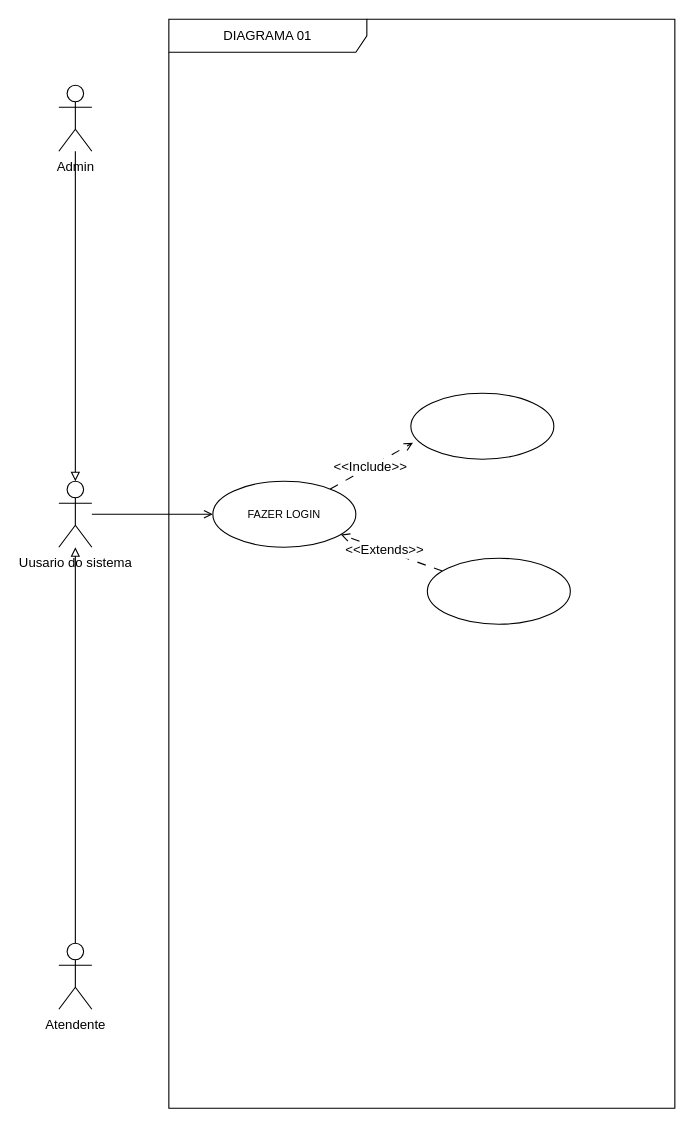
Some shapes in this 694 by 1128 pixel diagram are drawn without their labels. Here are the shapes that lost their labels. From the top down, the box of each, then its label:
(410, 392, 554, 459): VERIFICAR SE O USUARIO ESTA ATIVO
(426, 557, 570, 624): EXIBIR MENSAGEM DE ERRO
